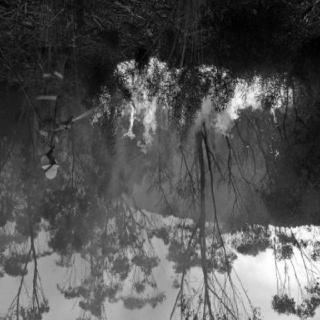Fire: (85, 60, 171, 146)
